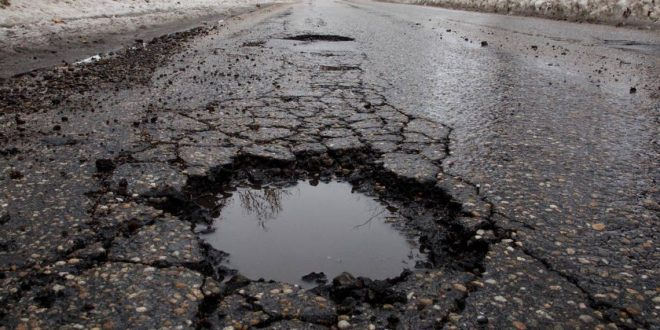pothole: (123, 134, 455, 314)
